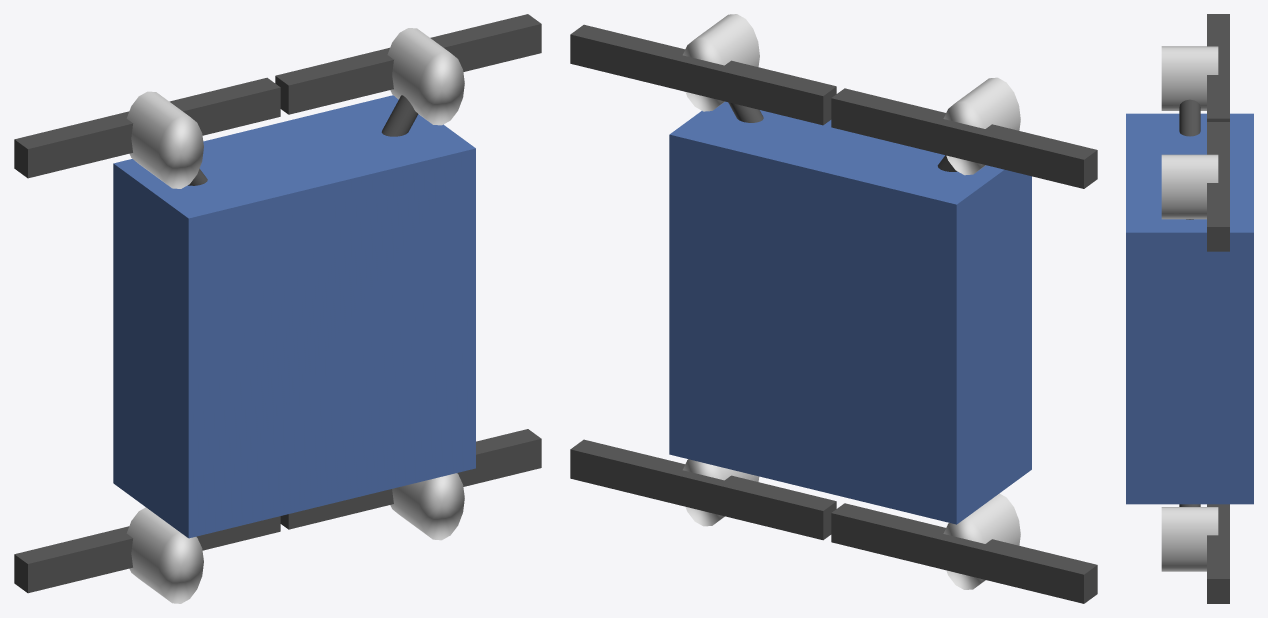
The model's file is C1_UAS_0003.glb.
The picture shows the model from 3 angles, left to right: view 1: azimuth 30°, elevation 25°; view 2: azimuth 150°, elevation 25°; view 3: azimuth 270°, elevation 25°; orthographic projection. The views are drawn at different scales.
Bounding box in the file's own units: 0.4658 × 0.4228 × 0.1182.
